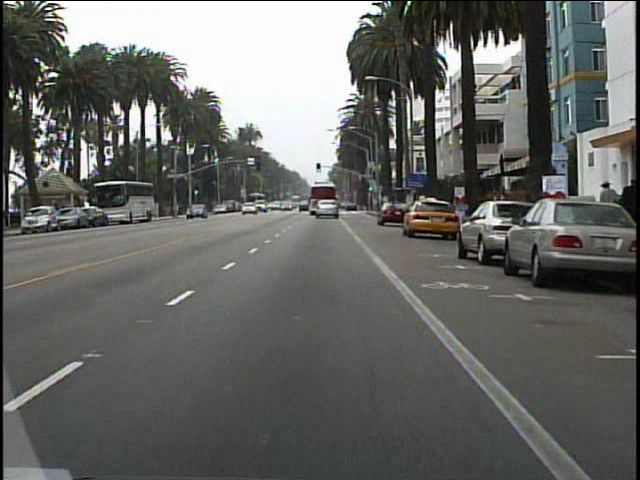person: (594, 175, 620, 242)
